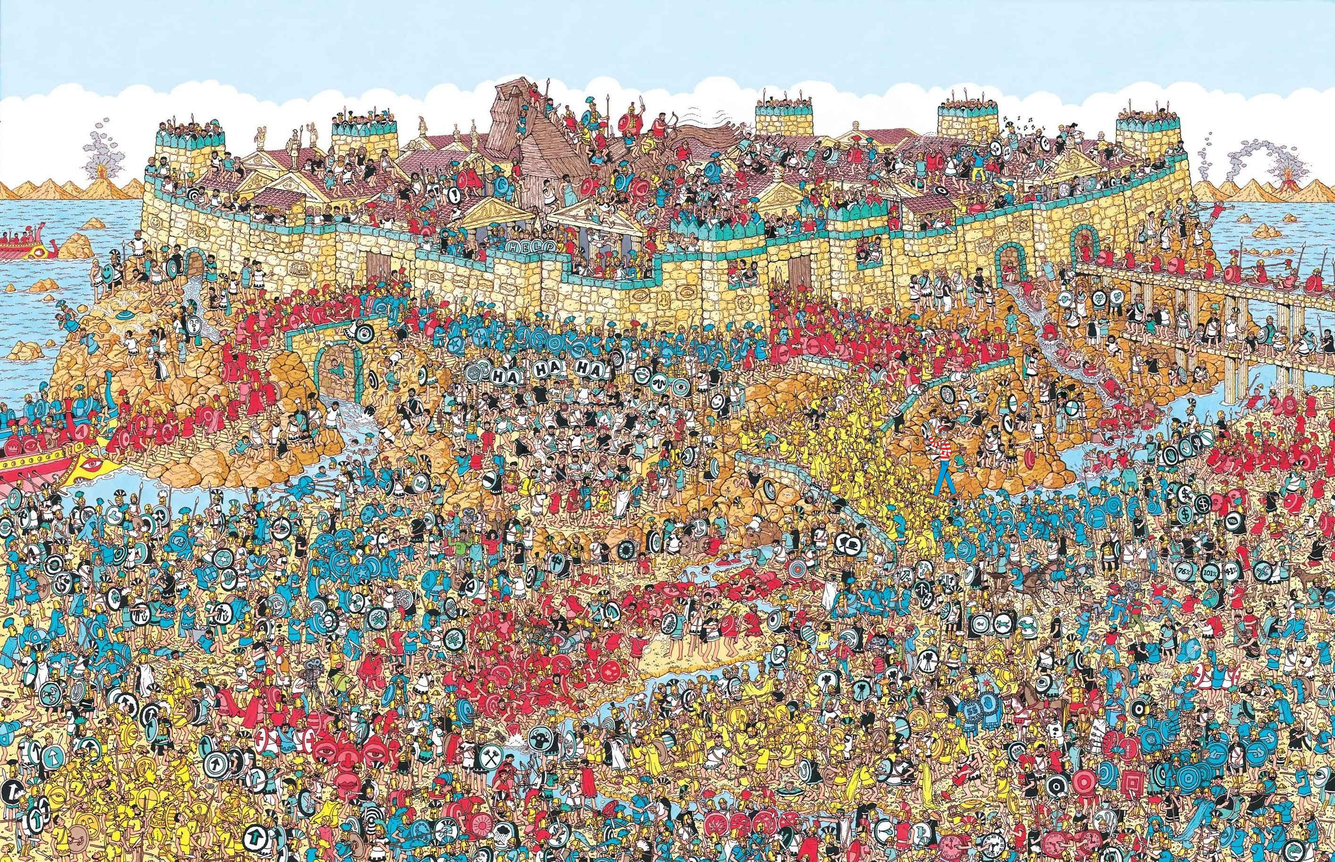waldo: (925, 425, 958, 500)
